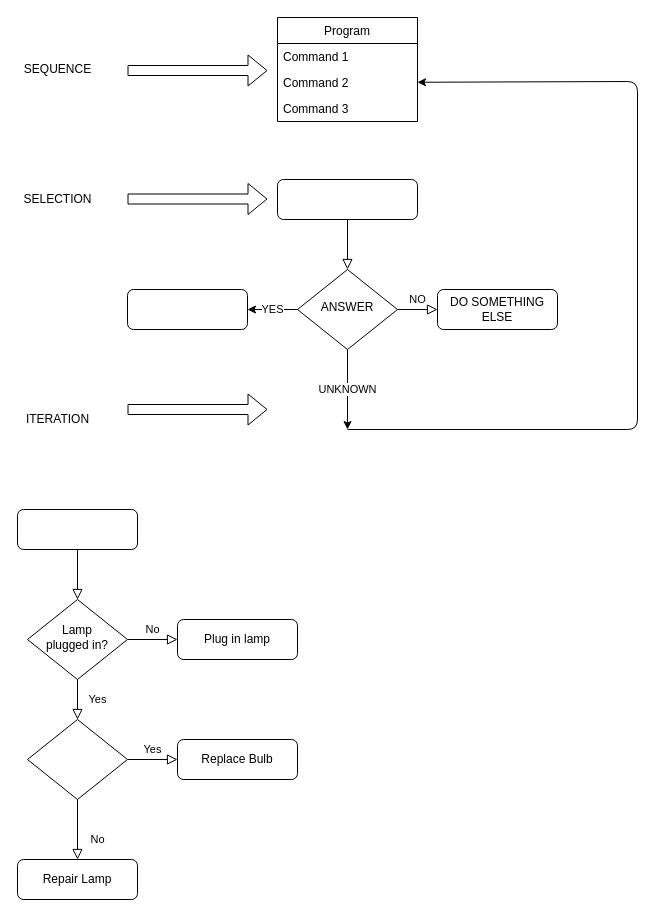
Image size: 663x917. Some labels were removed from this diagram. The shapes that lost their labels are listed below. From the top down, each one's centre as x and y in pixels, then its label:
point (347, 199): CHECK STATE
point (187, 309): DO SOMETHING
point (77, 529): Lamp doesn't work
point (77, 759): Bulb burned out?
